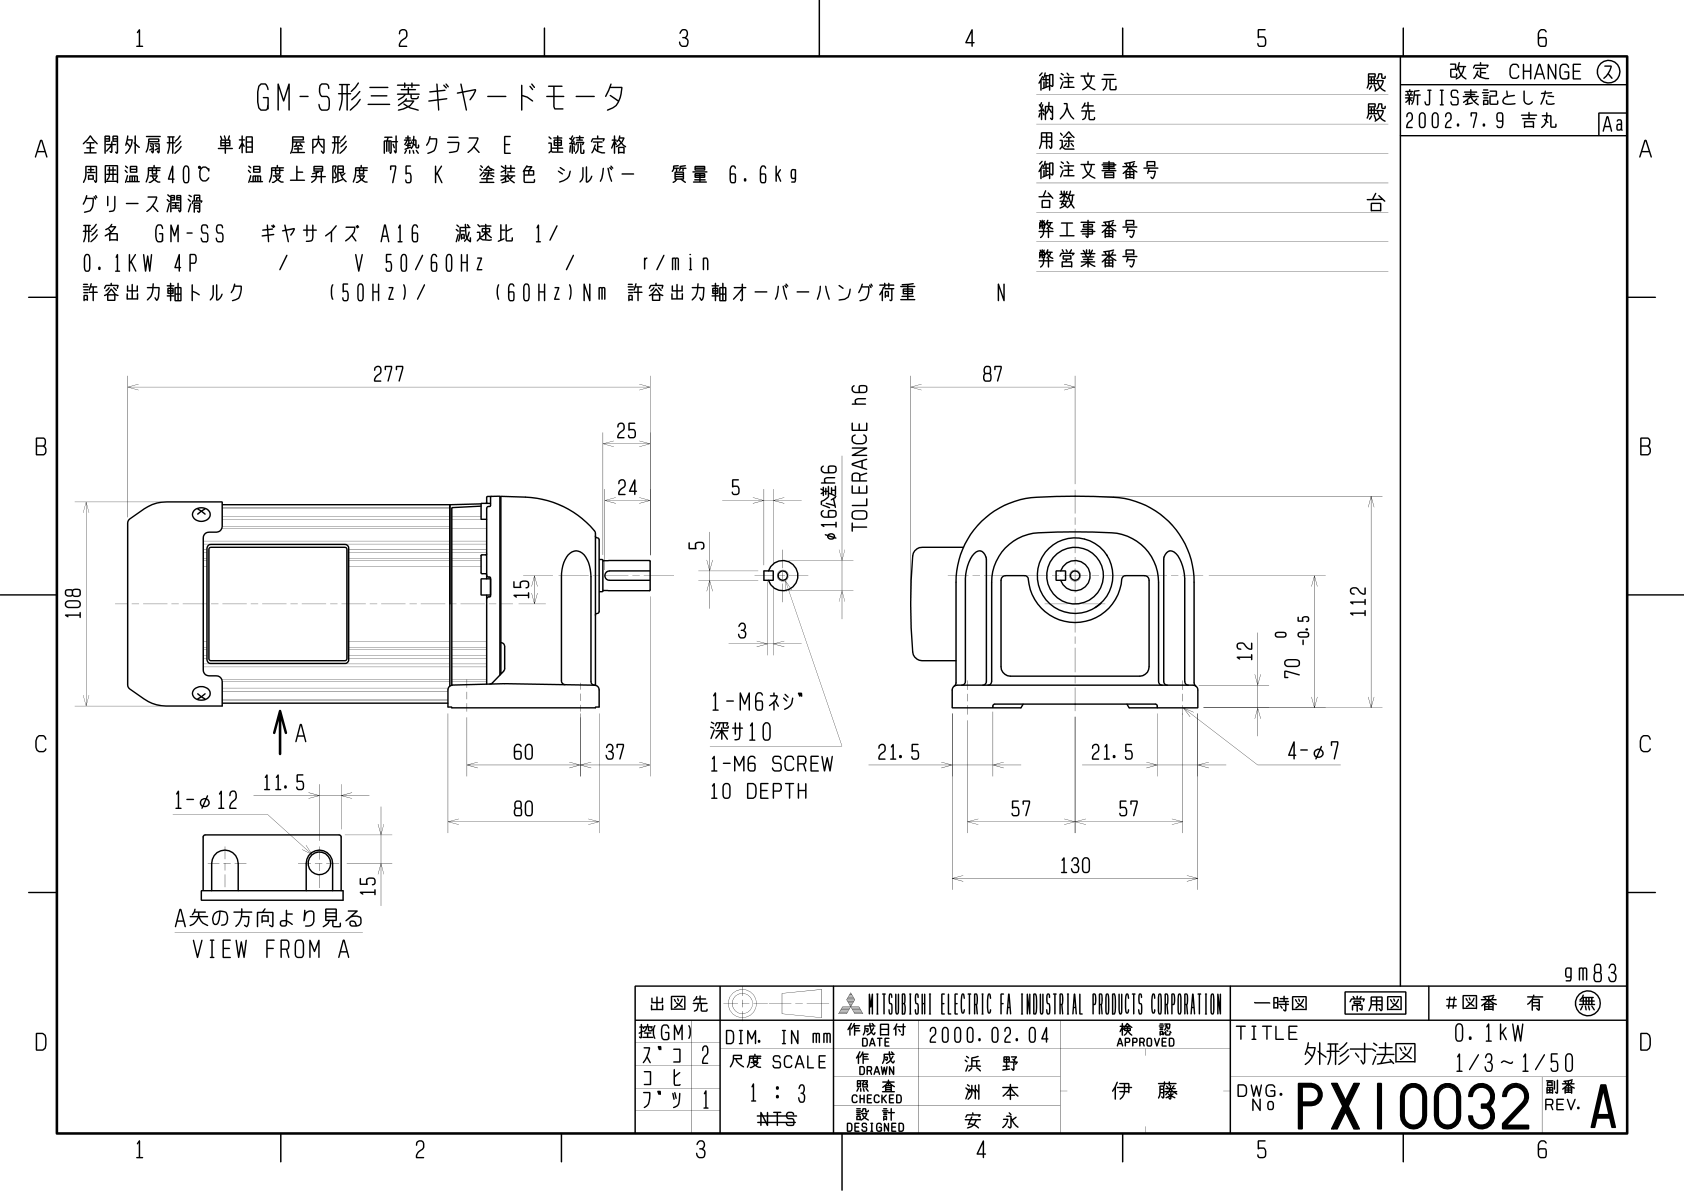GM_S_屋内＿単相_脚: (10, 13, 1675, 1179)
